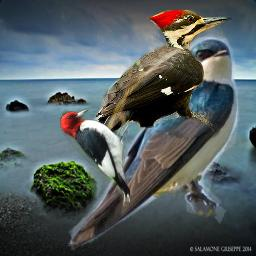Swallow: (63, 30, 246, 250)
Woodpecker: (90, 10, 234, 136), (60, 108, 130, 202)
